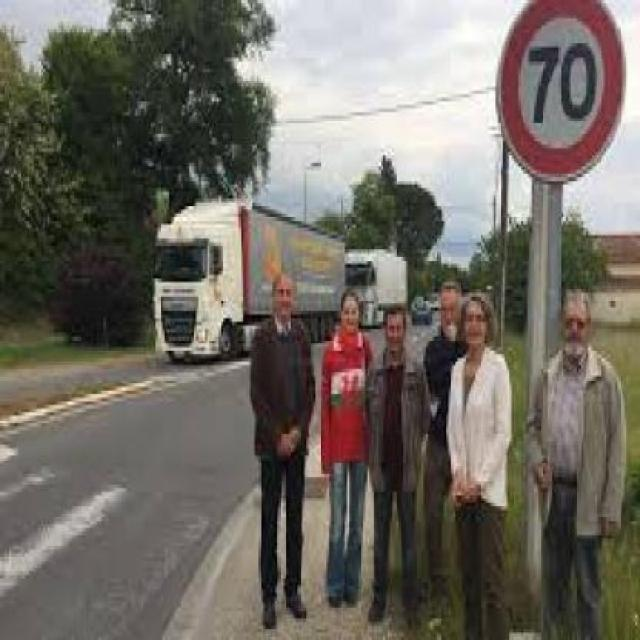forb_speed_over_70: (498, 0, 622, 180)
